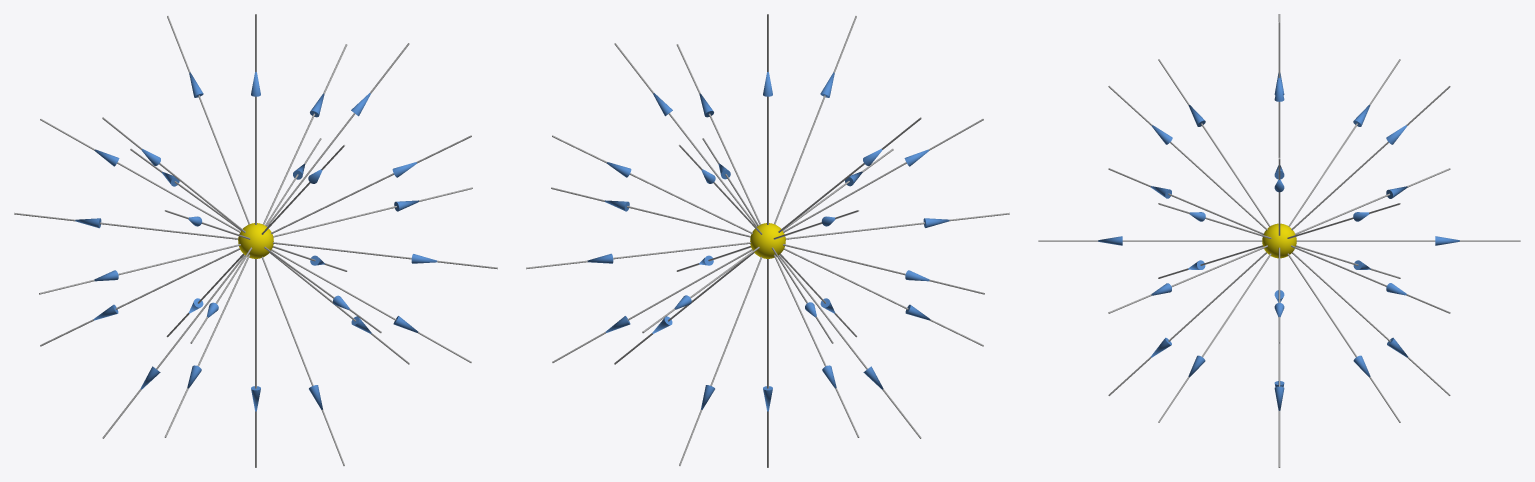
The model's file is zhengdianhe.fbx.
The picture shows the model from 3 angles, left to right: view 1: azimuth 30°, elevation 25°; view 2: azimuth 150°, elevation 25°; view 3: azimuth 270°, elevation 25°; orthographic projection. The views are drawn at different scales.
Visible parts, largest first — view 1: zheng1; view 2: zheng1; view 3: zheng1.
Boxes of the visible parts, x1=… form: zheng1: x1=14, y1=14, x2=497, y2=467; zheng1: x1=526, y1=14, x2=1009, y2=467; zheng1: x1=1038, y1=14, x2=1520, y2=467.
Size of the model in its own units: 27.81 by 27.81 by 27.81.
